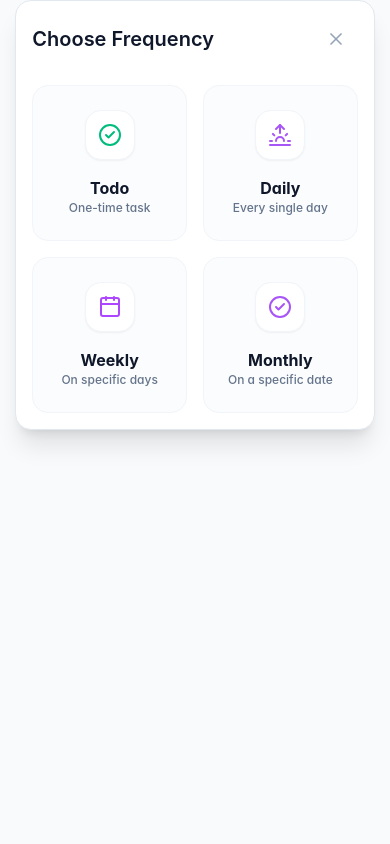
it: TaskForm — reminder field layout (BUG-092) › renders reminder field outside the two-column grid as a full-width row
Step 1. Click the heading "Daily" → (280, 188), box 260,178 -> 300,198
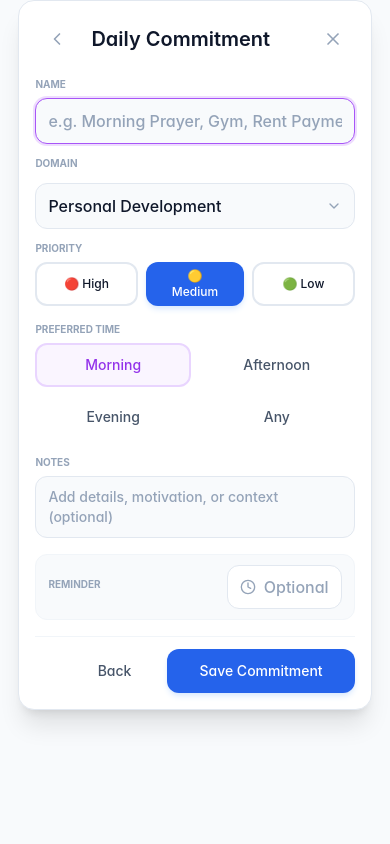
Now the text "Reminder" is shown, box 48,576 -> 101,592
